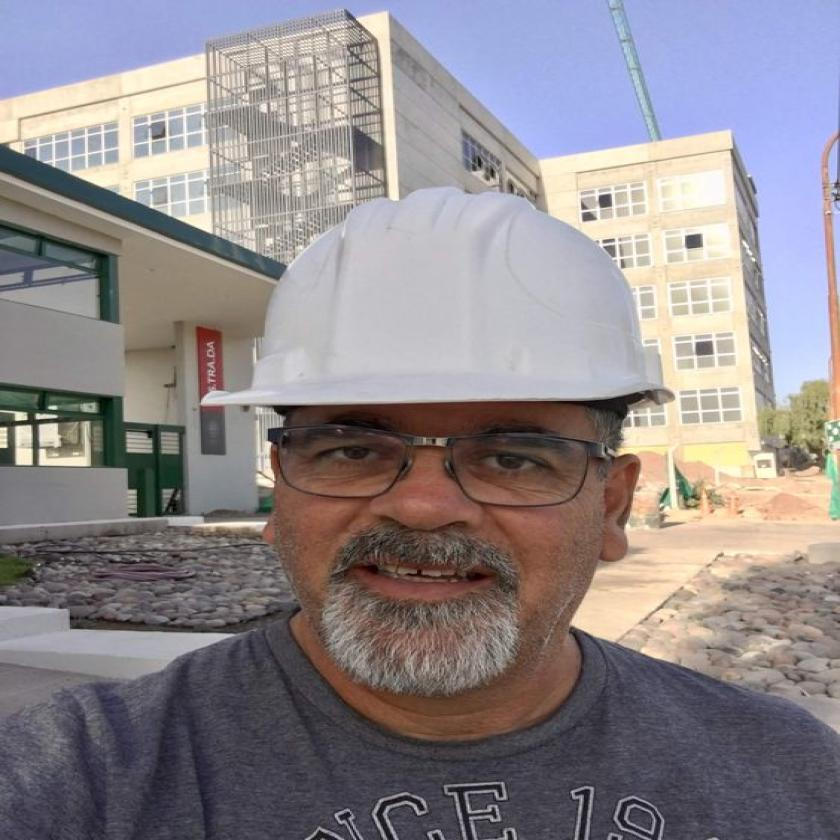Con_casco: (179, 173, 718, 720)
